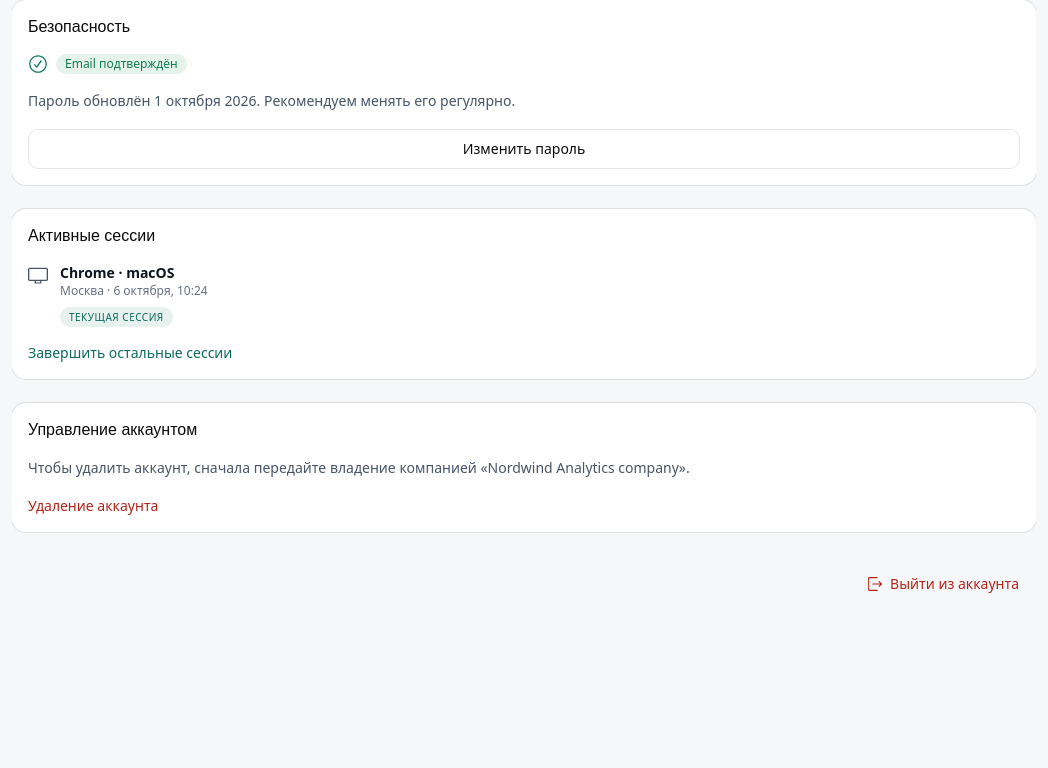
Test: SecuritySidebar › не отправляет запрос, если пароль слишком короткий
What coordinates should you click on to do the following:
click the button "Изменить пароль"
I would click on:
 (524, 149)
Its box is [28,129,1020,169].
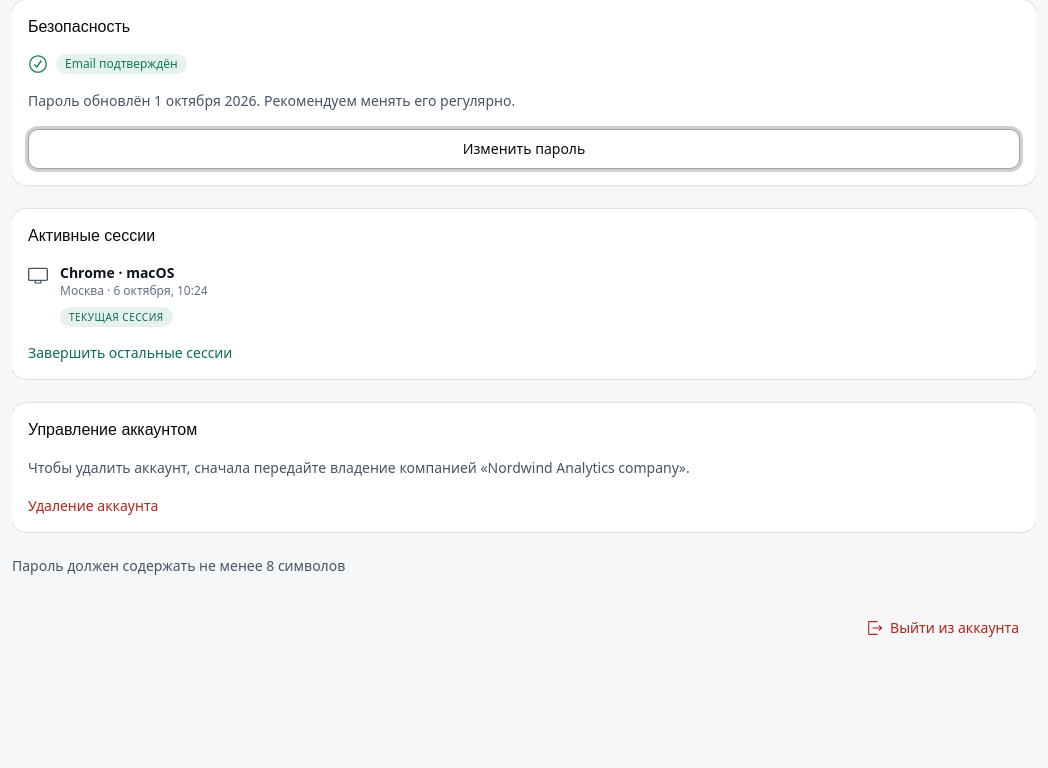
Now the text "Пароль должен содержать не менее 8 символов" is shown, box [12,556,345,574]
